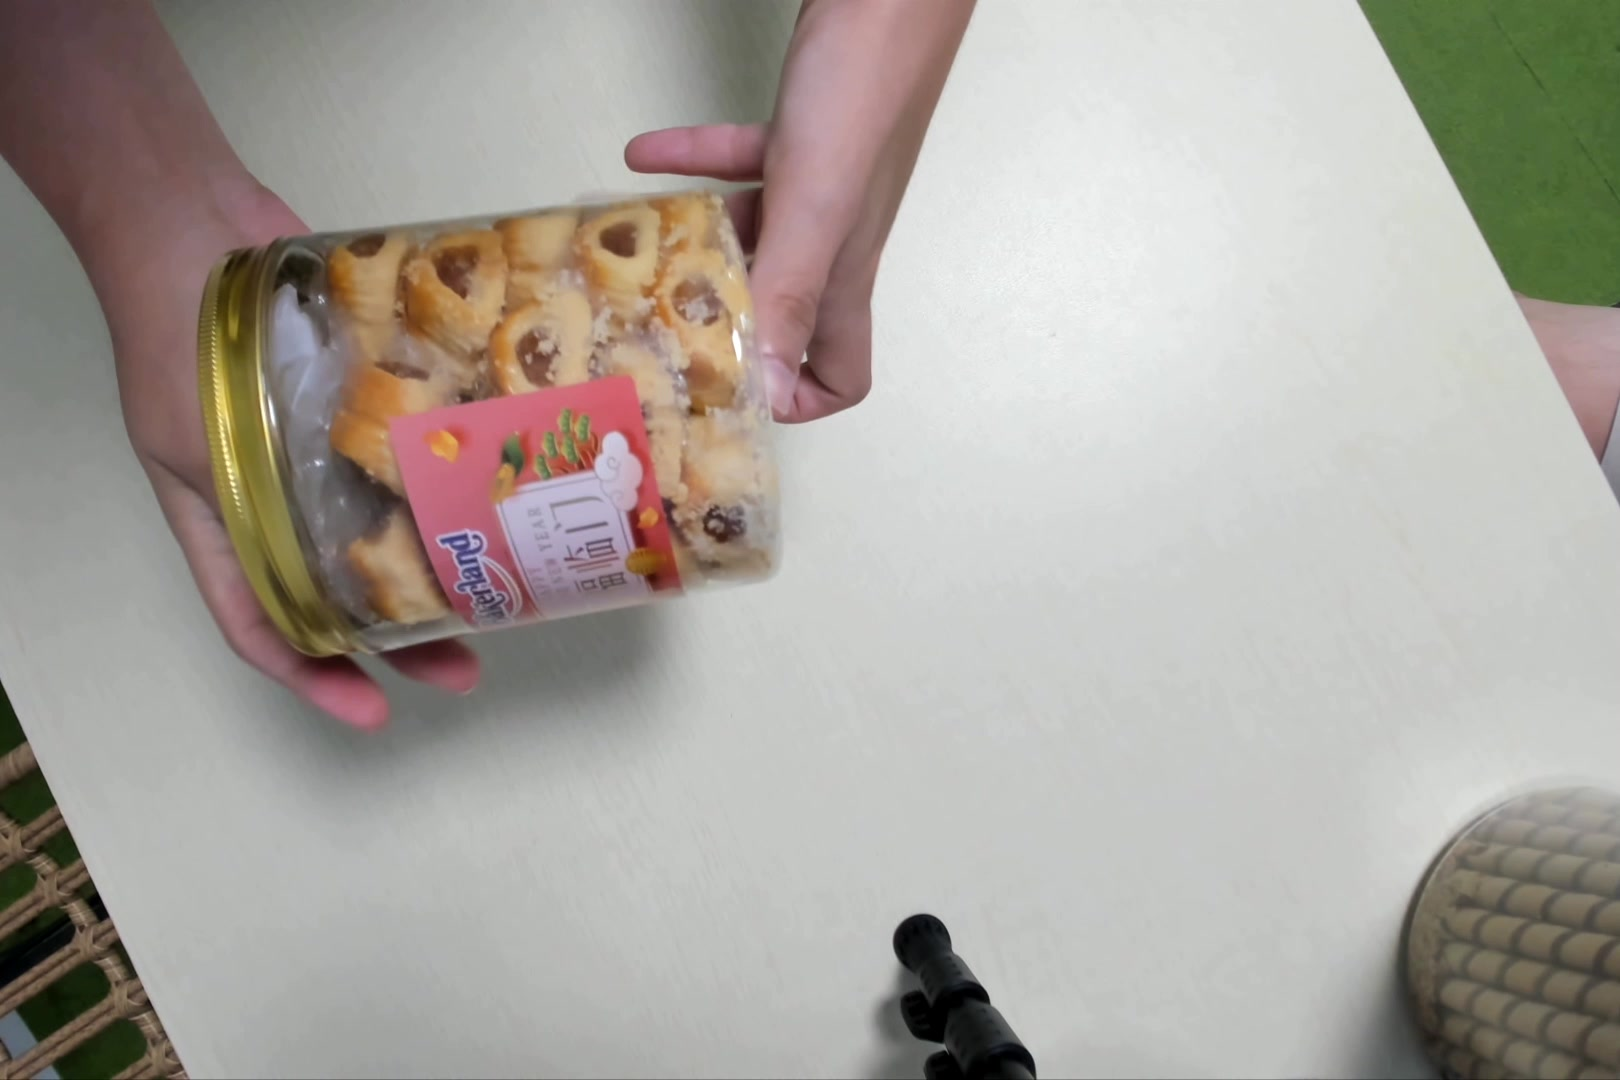BiscuitsCrackersCookies_300-399g_NonHalal_NonHealthy: (196, 198, 790, 664)
